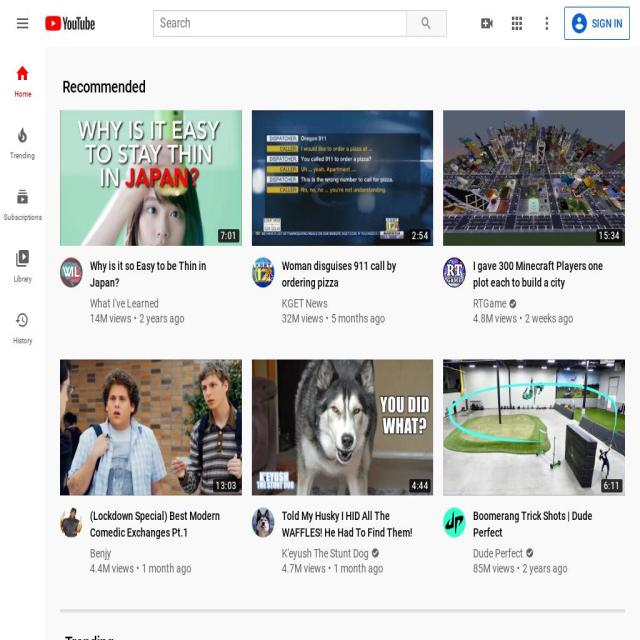button: (251, 110, 434, 247), (251, 359, 434, 496), (60, 110, 242, 247), (443, 110, 625, 247), (60, 359, 242, 496), (443, 359, 625, 496), (281, 258, 419, 292), (281, 507, 419, 541), (90, 258, 227, 292), (473, 258, 610, 292), (90, 507, 227, 541), (473, 507, 610, 541), (0, 50, 45, 112), (0, 173, 45, 235), (0, 235, 45, 297), (0, 112, 45, 173), (0, 297, 45, 358), (564, 7, 630, 40), (281, 545, 370, 561), (90, 296, 160, 312), (406, 10, 446, 37), (45, 14, 95, 34), (474, 545, 524, 561), (281, 296, 329, 312), (443, 507, 466, 538), (443, 258, 466, 288), (60, 507, 82, 538), (252, 507, 274, 538), (60, 258, 82, 288), (252, 258, 274, 288), (473, 296, 508, 312), (65, 631, 114, 640), (90, 545, 112, 561), (15, 14, 30, 34), (479, 14, 494, 34), (509, 14, 524, 34), (539, 14, 554, 34)
field: (160, 13, 405, 34)
heading: (281, 258, 419, 292), (281, 507, 419, 541), (90, 258, 227, 292), (473, 258, 610, 292), (90, 507, 227, 541), (473, 507, 610, 541), (65, 631, 114, 640)
image: (251, 110, 434, 247), (251, 359, 434, 496), (60, 110, 242, 247), (443, 110, 625, 247), (60, 359, 242, 496), (443, 359, 625, 496), (45, 14, 95, 34), (443, 507, 466, 538), (443, 258, 466, 288), (60, 507, 82, 538), (252, 507, 274, 538), (60, 258, 82, 288), (252, 258, 274, 288), (571, 14, 587, 34), (15, 14, 30, 34), (479, 14, 494, 34), (509, 14, 524, 34), (539, 14, 554, 34), (15, 64, 30, 84), (15, 125, 30, 145), (15, 186, 30, 206), (15, 248, 30, 268), (15, 310, 30, 330), (420, 15, 433, 32), (508, 298, 518, 309), (370, 548, 380, 559), (526, 548, 534, 559)
link: (592, 17, 622, 30)
text: (62, 76, 146, 96), (331, 311, 385, 327), (473, 311, 526, 327), (281, 560, 334, 576), (90, 560, 142, 576), (281, 311, 331, 327), (333, 560, 383, 576), (473, 560, 523, 576), (90, 311, 139, 327), (525, 311, 574, 327), (142, 560, 191, 576), (523, 560, 568, 576), (140, 311, 184, 327), (3, 212, 42, 223), (10, 150, 35, 162), (599, 230, 620, 242), (12, 335, 32, 347), (216, 480, 237, 491), (13, 273, 32, 285), (14, 88, 31, 100), (220, 230, 237, 242), (412, 230, 429, 242), (412, 480, 429, 491), (603, 480, 620, 491)
